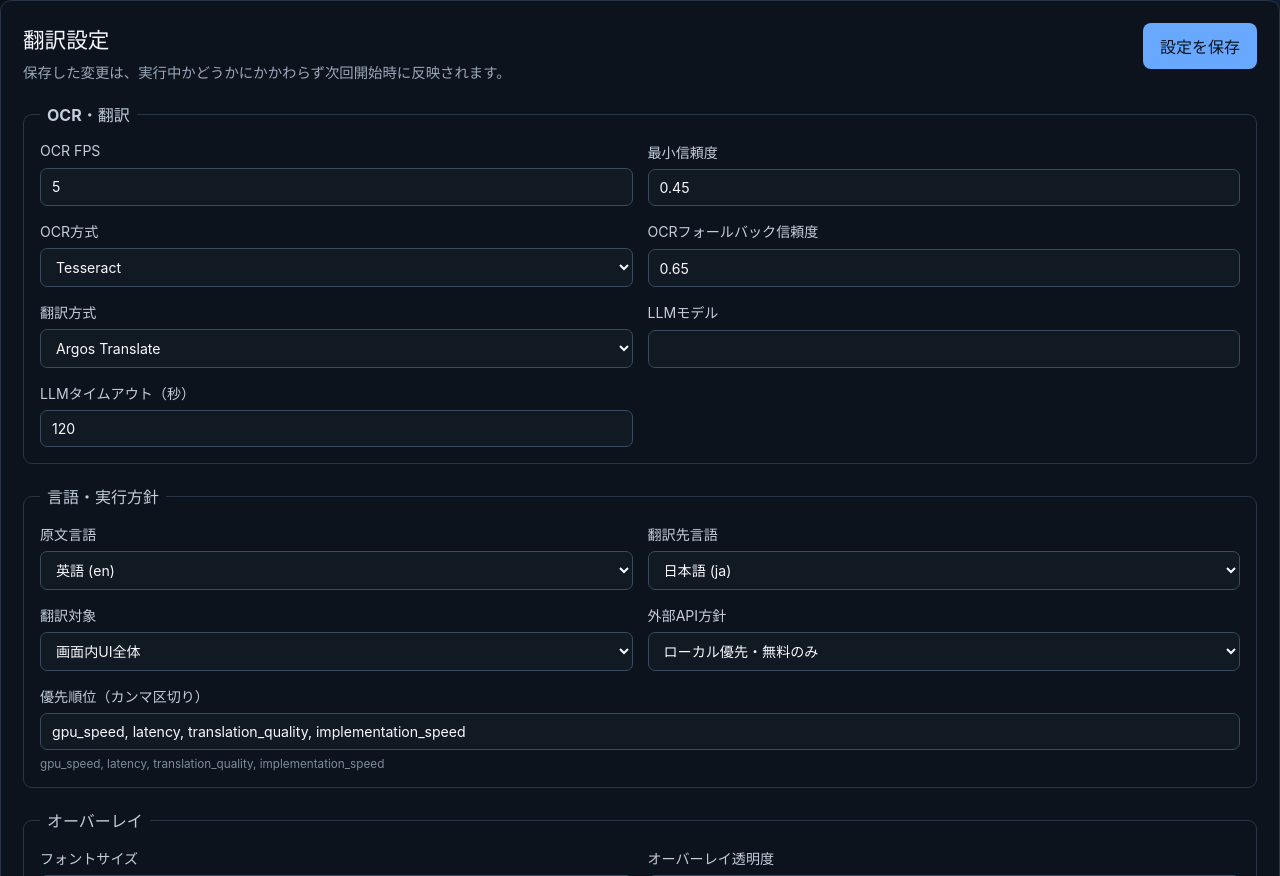
Scenario: SettingsPanel › 設定保存の400エラーを表示し、編集中の値を失わない
This screenshot has width=1280, height=876.
Type "local-model" into the field labelled "LLMモデル" at x=944, y=349, box [648,330,1240,368]
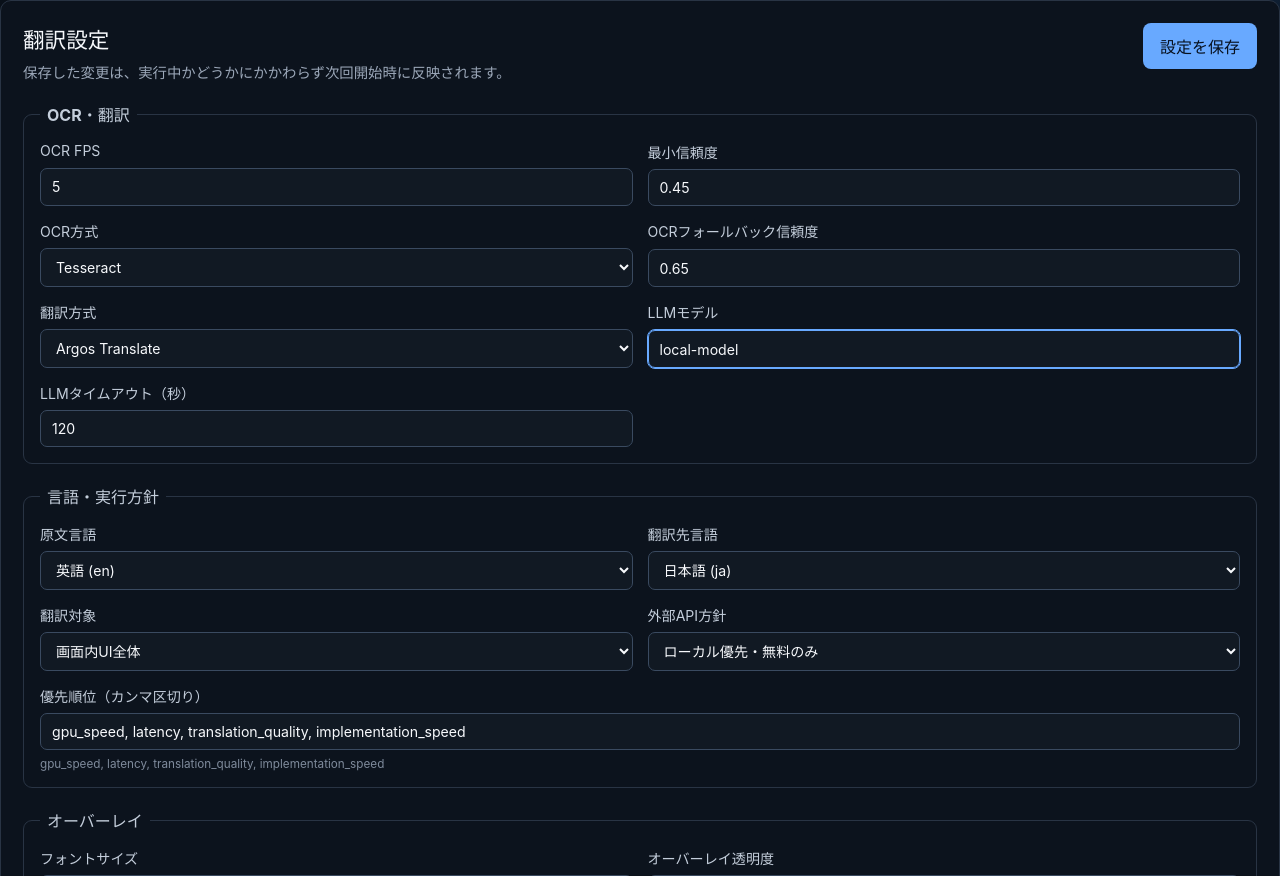
Select "LLM" in the dropdown labelled "OCR方式" at x=336, y=268, box [40,248,632,287]
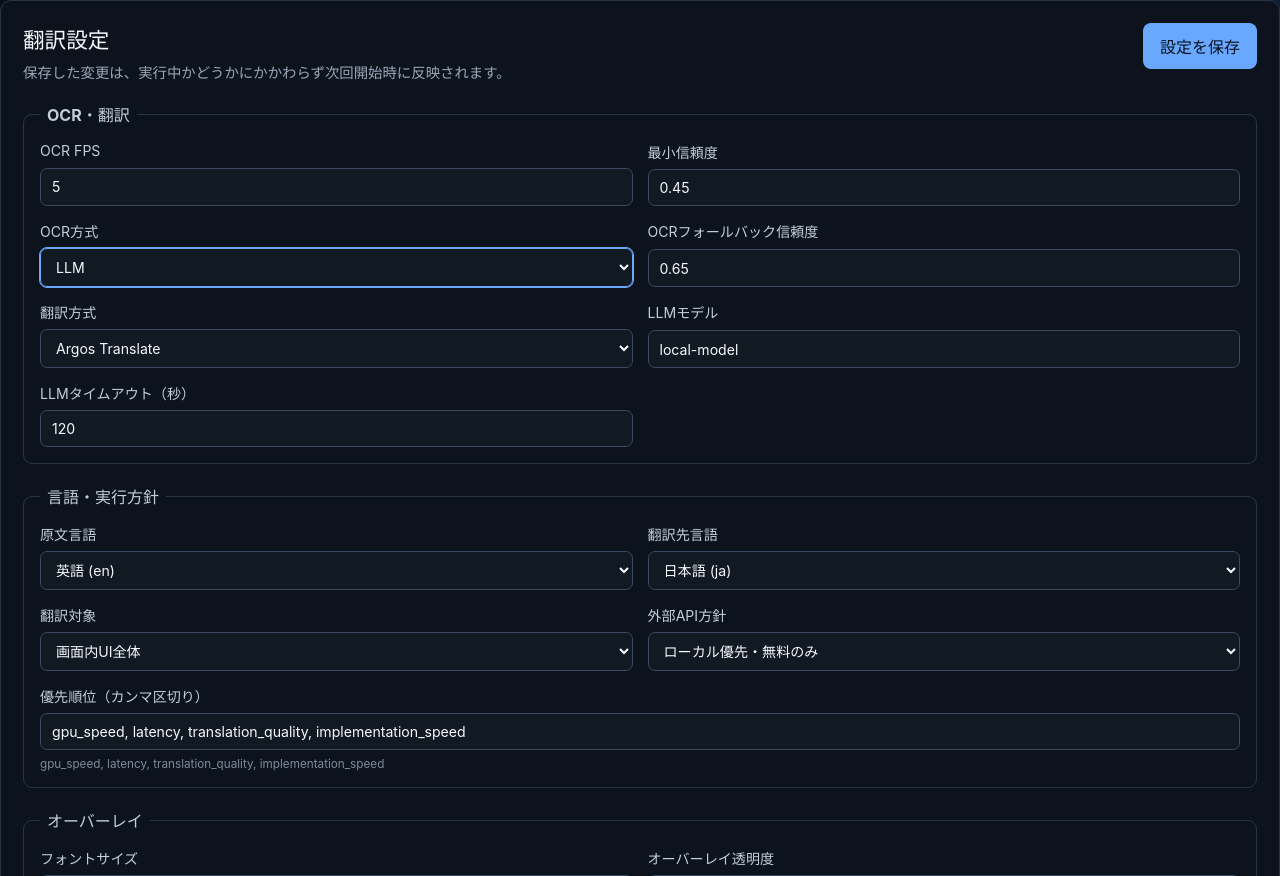
Click the button "設定を保存" at x=1200, y=46, box [1143,23,1257,69]
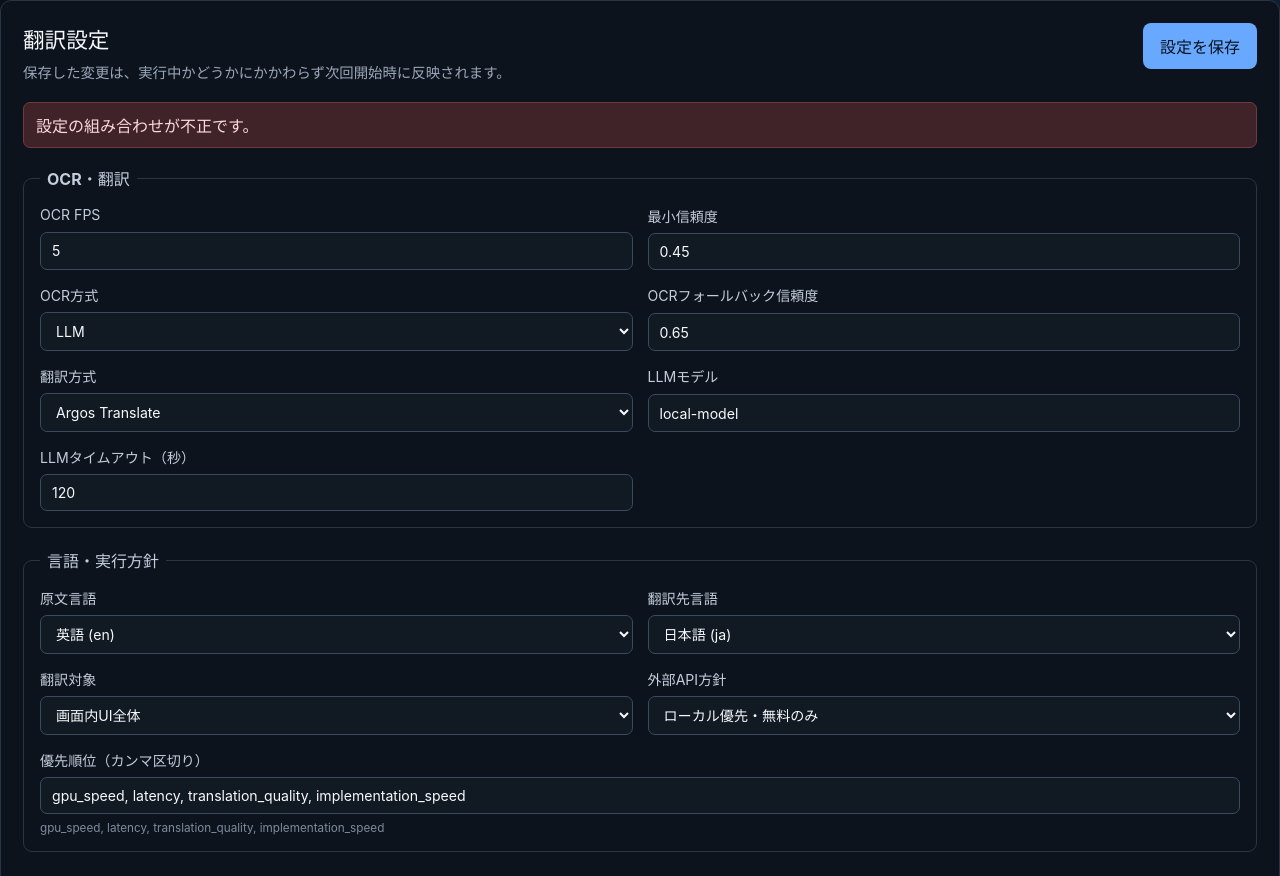
Expected: the message reads "設定の組み合わせが不正です。", [36,116,258,136]
